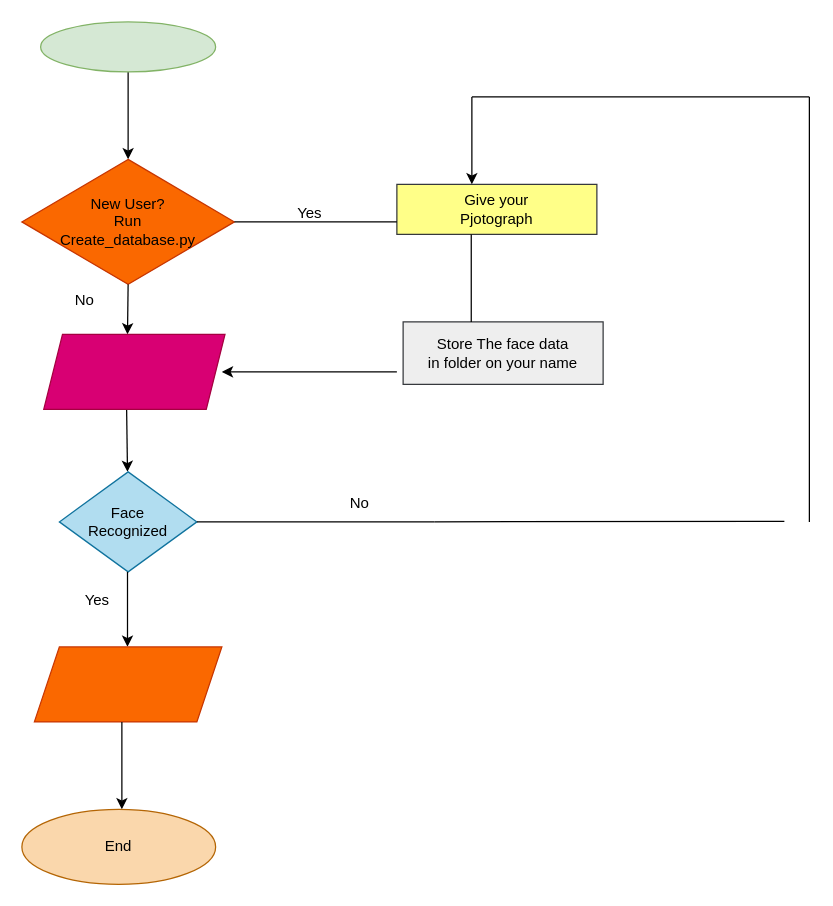
Image size: 833x906. Some labels were removed from this diagram. Each missing label, with the centre of its shape:
Reognize The face Run Faces_Recoginze.py: the point at 133,371
Start: the point at 127,46
Stored in csv file with Registration Number &Data Time of Entry: the point at 127,684
